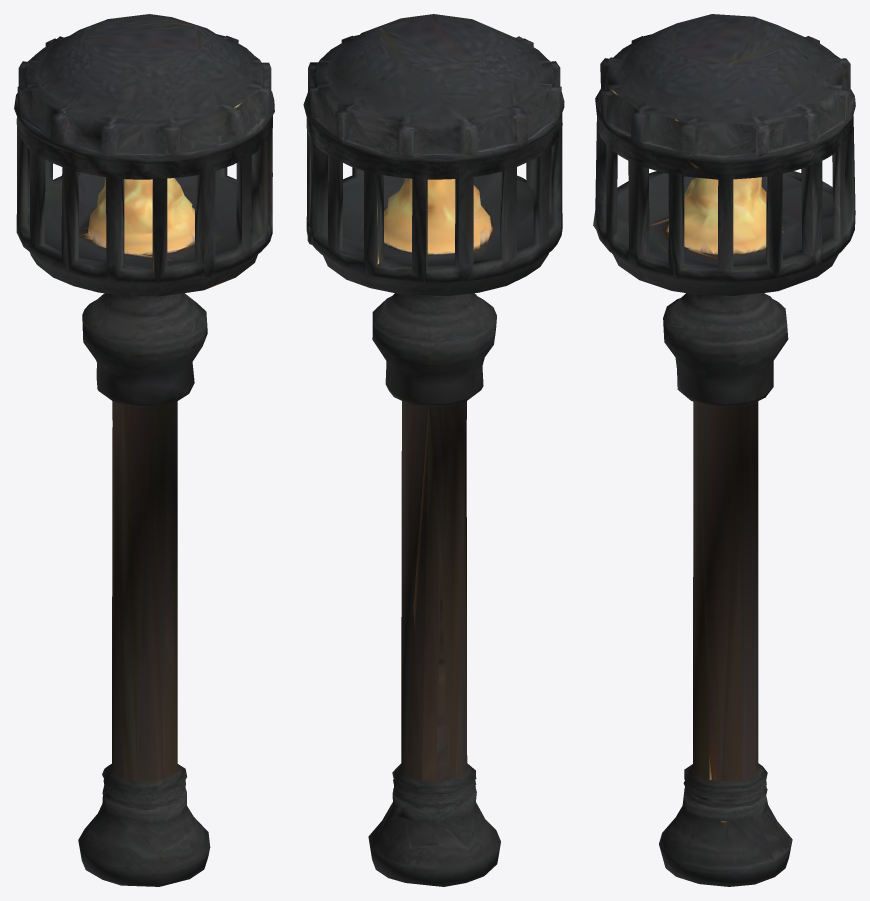
The model's file is held_torch.glb.
The picture shows the model from 3 angles, left to right: view 1: azimuth 30°, elevation 25°; view 2: azimuth 150°, elevation 25°; view 3: azimuth 270°, elevation 25°; orthographic projection.
Parts seen in each view (by area): view 1: held_torch; view 2: held_torch; view 3: held_torch.
Part boxes in pixels (x1,y1,x2,y2): held_torch: (14,14,274,886); held_torch: (303,14,564,886); held_torch: (593,14,855,886).
Size of the model in its own units: 0.1777 by 0.6197 by 0.1792.
Materials: 1 (1 with a texture image).
